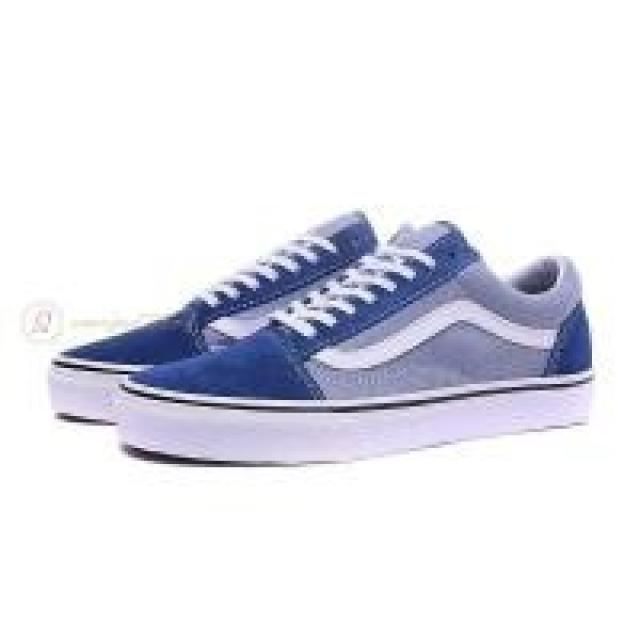shoes: (50, 204, 597, 468), (119, 215, 596, 466)
